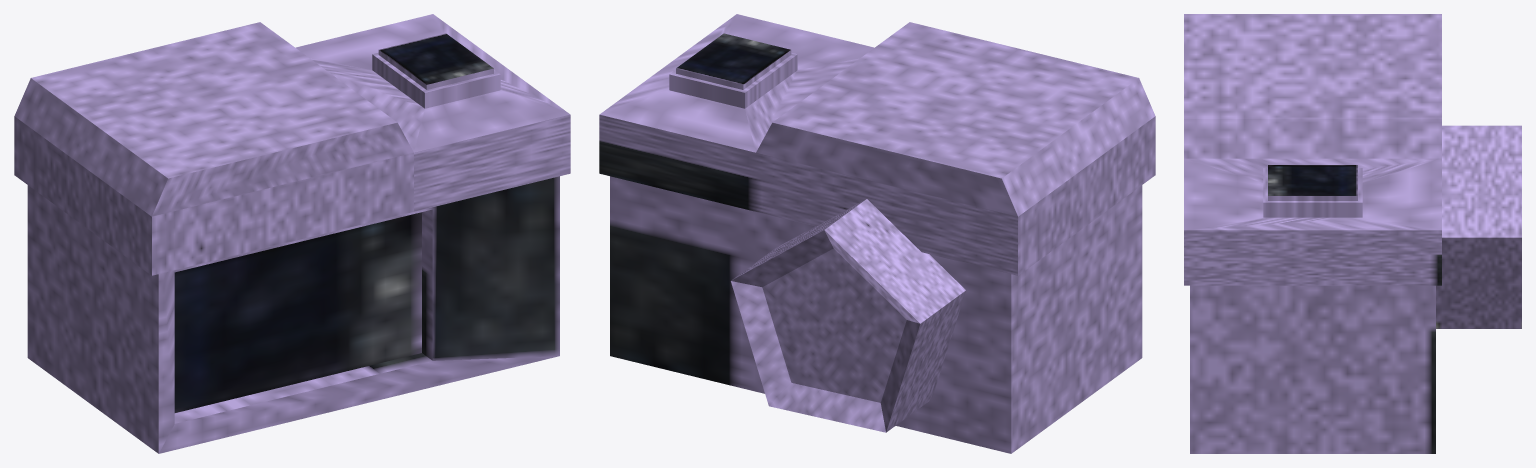
The model's file is camerapronta.fbx.
The picture shows the model from 3 angles, left to right: view 1: azimuth 30°, elevation 25°; view 2: azimuth 150°, elevation 25°; view 3: azimuth 270°, elevation 25°; orthographic projection. The views are drawn at different scales.
Parts seen in each view (by area): view 1: Cylinder; view 2: Cylinder; view 3: Cylinder.
Boxes of the visible parts, box(x1,y1,x2,y2) form: Cylinder: box(14, 14, 570, 453); Cylinder: box(599, 14, 1155, 453); Cylinder: box(1184, 14, 1521, 453).
Bounding box in the file's own units: 369 × 233 × 275.
Materials: 1 (1 with a texture image).
